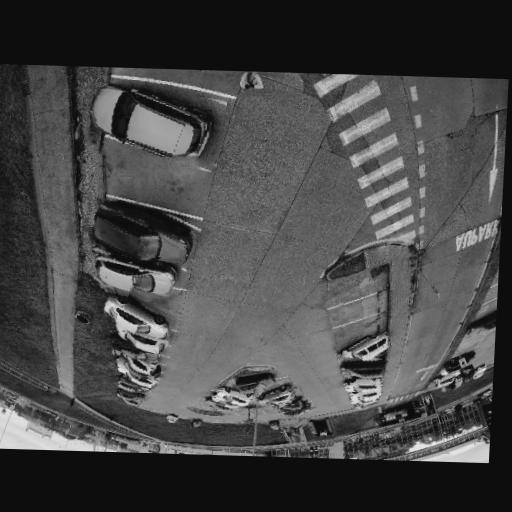busy: (87, 84, 226, 168), (80, 201, 202, 270), (94, 254, 182, 294), (101, 295, 176, 338), (334, 332, 393, 364), (338, 352, 388, 380), (230, 368, 278, 394), (118, 329, 166, 351), (254, 382, 296, 406), (118, 352, 159, 374), (216, 387, 251, 406), (279, 398, 310, 418), (120, 371, 156, 388), (349, 376, 383, 393), (284, 403, 313, 419), (203, 398, 233, 413), (355, 390, 381, 403), (449, 376, 467, 390), (471, 363, 487, 378), (266, 418, 285, 430), (163, 411, 180, 424), (190, 417, 205, 428)
free: (129, 152, 205, 202), (128, 287, 170, 310), (334, 277, 363, 299), (462, 332, 483, 353), (337, 304, 360, 322), (341, 323, 365, 339)
